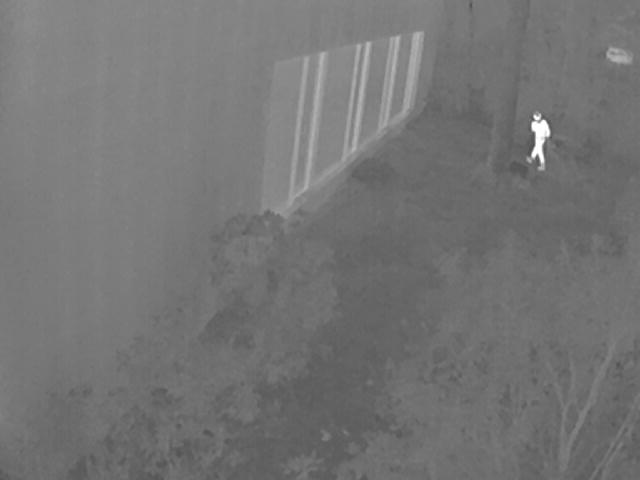person: (528, 110, 552, 173)
